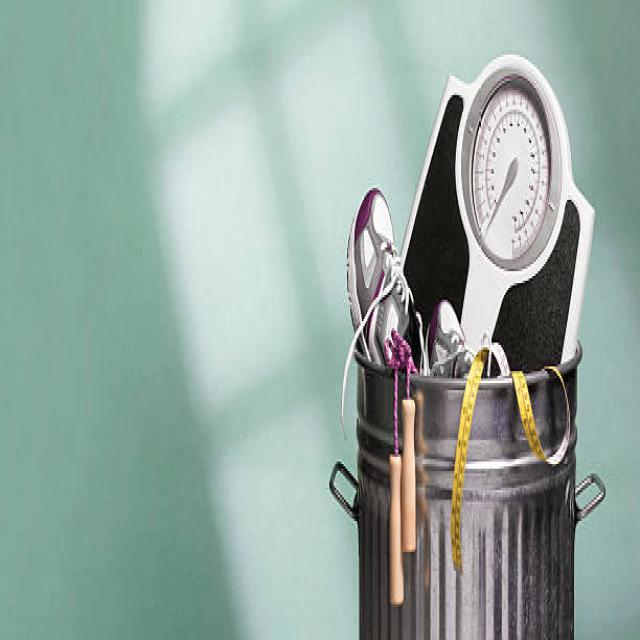trash: (308, 126, 613, 600)
